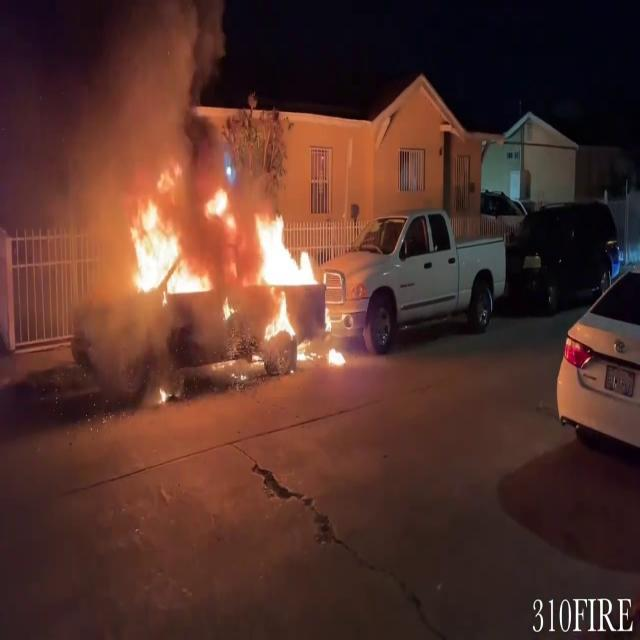Fire: (248, 205, 338, 358), (122, 168, 204, 304)
Smoke: (0, 0, 230, 218)
